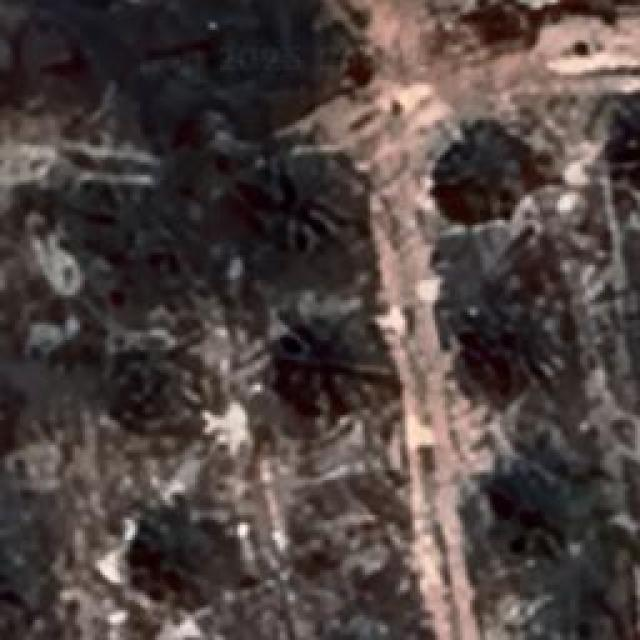PalmTree: (108, 98, 529, 492), (87, 84, 184, 560), (280, 316, 390, 424), (111, 338, 199, 444), (432, 117, 528, 210), (260, 155, 345, 250), (456, 291, 539, 369), (0, 530, 33, 630), (613, 98, 640, 190), (620, 98, 640, 190)
